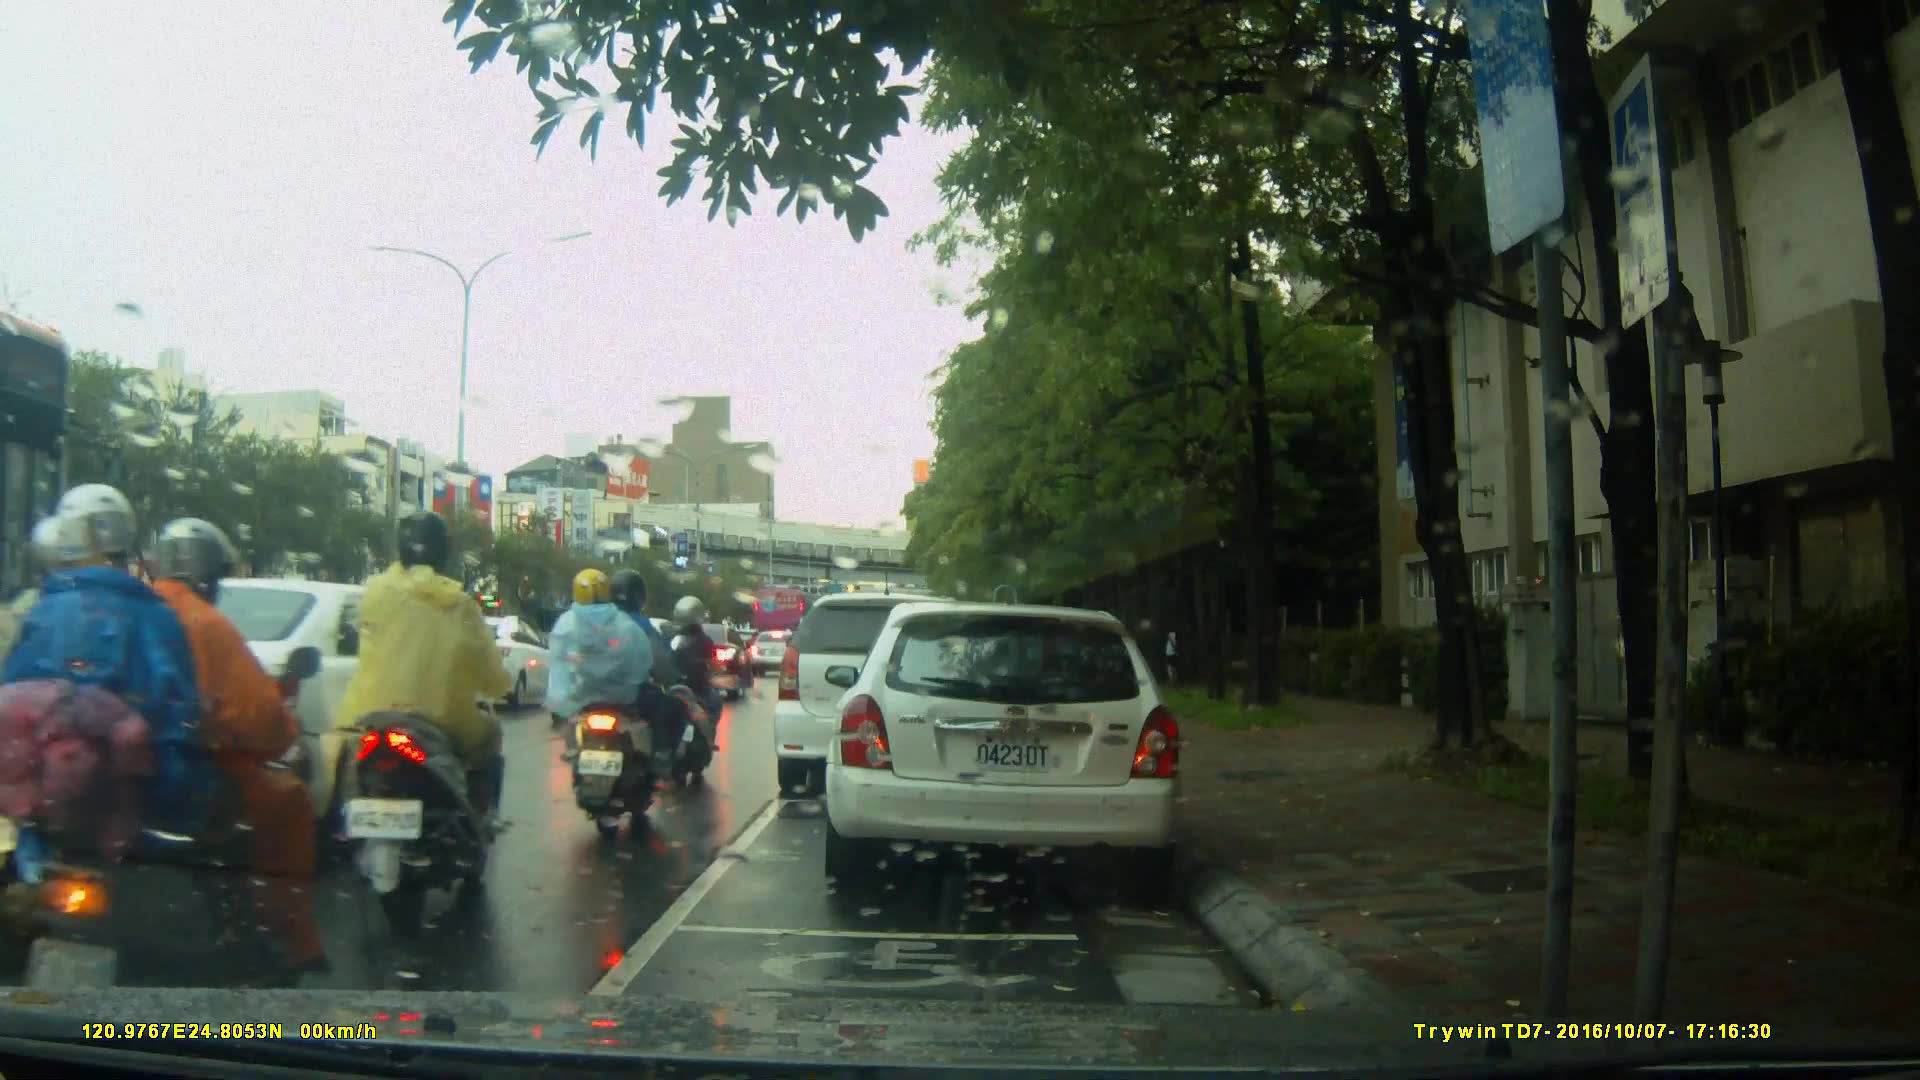rider: (3, 479, 321, 1036), (321, 507, 518, 925), (546, 562, 683, 835), (630, 592, 725, 806)
vehicle: (835, 594, 1194, 898), (42, 575, 467, 832), (776, 590, 1026, 784), (643, 613, 759, 699)
